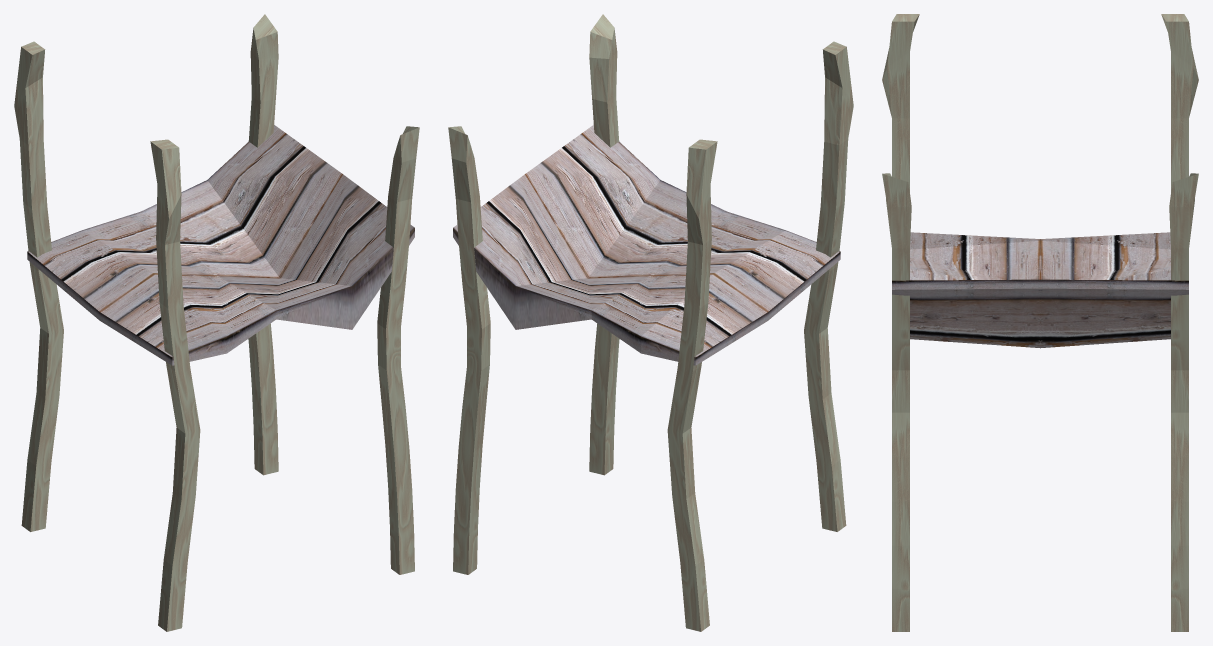
3 views of the same model, side by side, from view 1: azimuth 30°, elevation 25°; view 2: azimuth 150°, elevation 25°; view 3: azimuth 270°, elevation 25° (orthographic). The views are drawn at different scales.
Visible parts, largest first — view 1: brid014_woodboard_0, brid014_woodsemwhite_0; view 2: brid014_woodboard_0, brid014_woodsemwhite_0; view 3: brid014_woodboard_0, brid014_woodsemwhite_0.
Part boxes in pixels (x1,y1,x2,y2): brid014_woodboard_0: (27,125,414,365); brid014_woodsemwhite_0: (14,14,419,631); brid014_woodboard_0: (453,125,840,365); brid014_woodsemwhite_0: (448,14,853,631); brid014_woodboard_0: (892,232,1188,348); brid014_woodsemwhite_0: (882,14,1198,631).
Bounding box in the file's own units: 3 × 5.49 × 3.2.
Materials: 2 (2 with a texture image).
